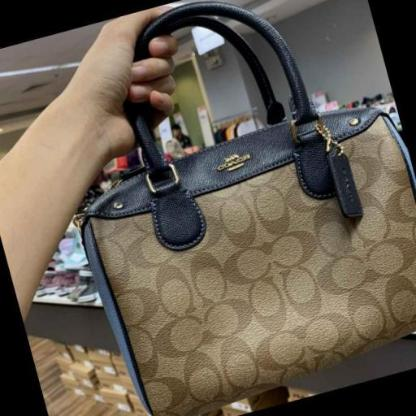bag: (80, 0, 416, 413)
